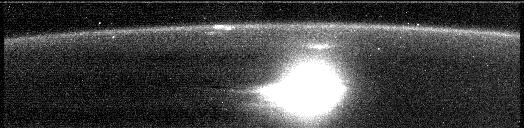positive: (303, 41, 335, 52)
